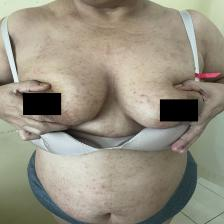DA: (72, 41, 155, 119)
